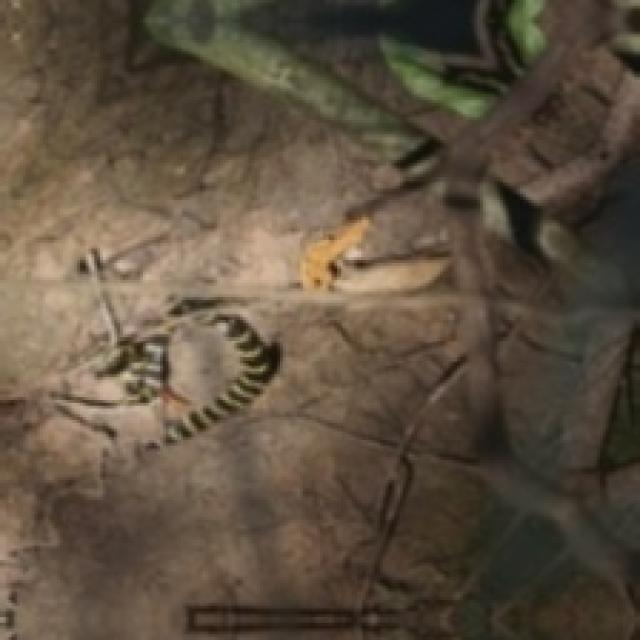mangrove cat snake: (34, 283, 280, 454)
